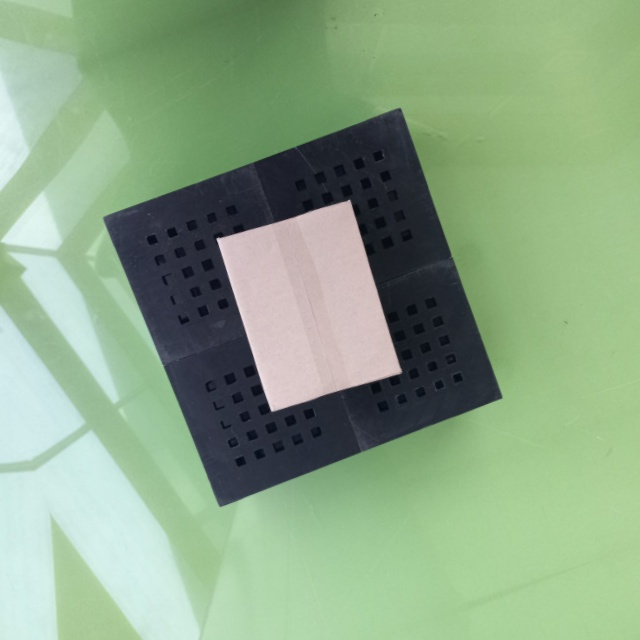box: (216, 196, 403, 418)
pallet: (90, 99, 513, 515)
